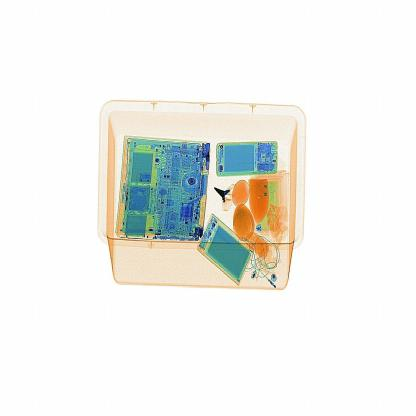gun: (212, 176, 241, 212)
